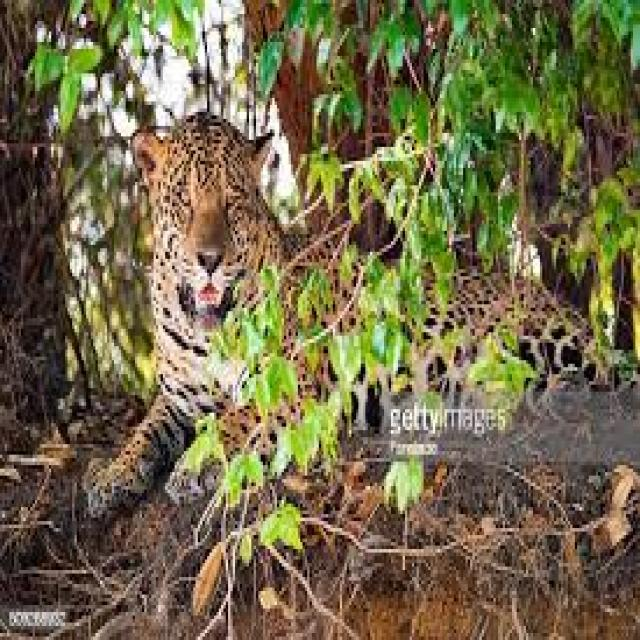Jaguar: (103, 109, 598, 444)
